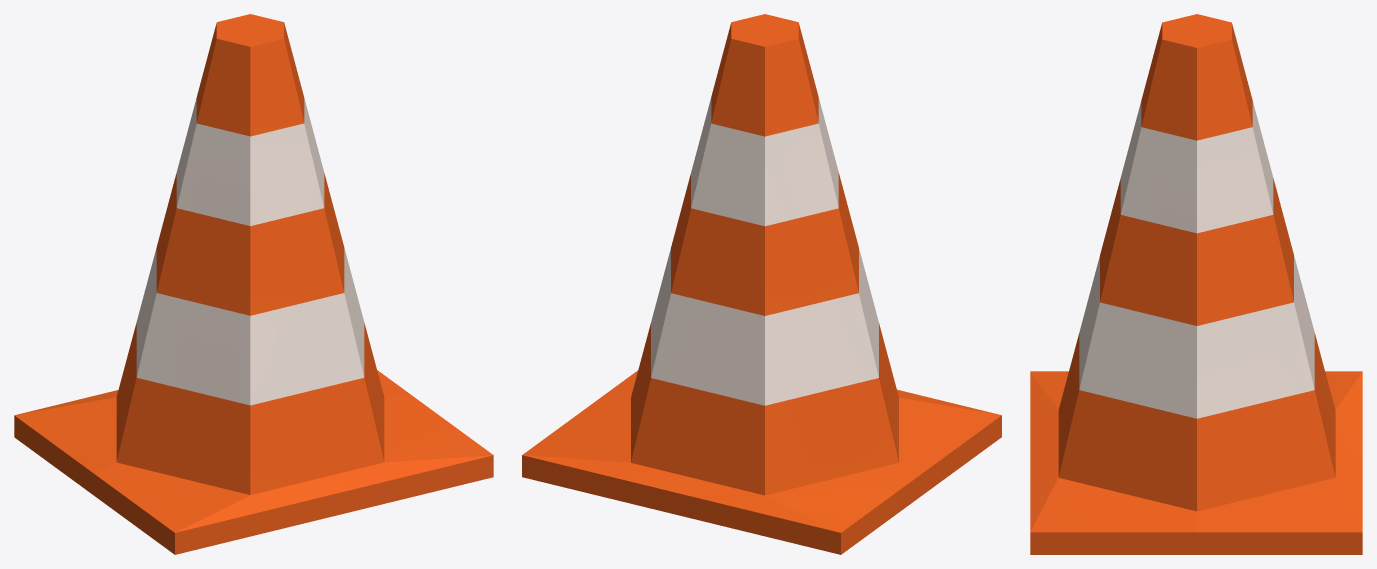
File: coctieu.fbx
The picture shows the model from 3 angles, left to right: view 1: azimuth 30°, elevation 25°; view 2: azimuth 150°, elevation 25°; view 3: azimuth 270°, elevation 25°; orthographic projection. The views are drawn at different scales.
Visible parts, largest first — view 1: coctieu; view 2: coctieu; view 3: coctieu.
Boxes of the visible parts, bbox=[...] form: coctieu: bbox=[14, 14, 493, 554]; coctieu: bbox=[522, 14, 1001, 554]; coctieu: bbox=[1030, 14, 1362, 554].
Bounding box in the file's own units: 88.69 × 114 × 77.49.
1 material, 1 textured.
